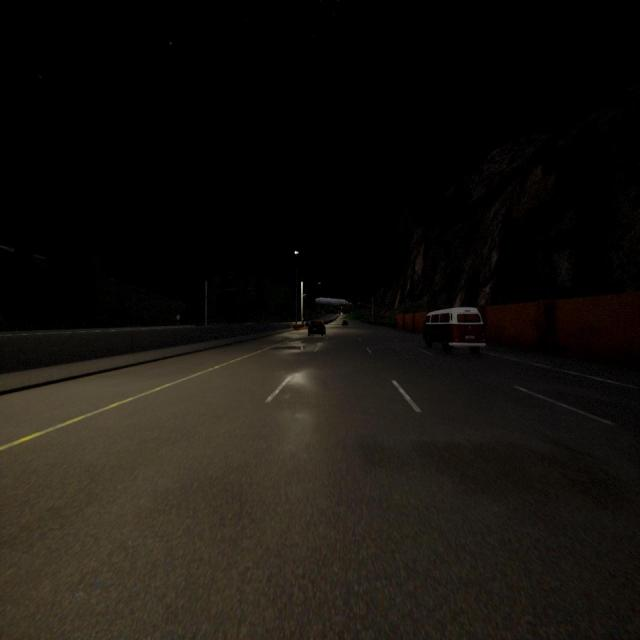Traffic_Signs: (176, 314, 180, 320)
Vehicle: (422, 307, 486, 353), (308, 320, 326, 337), (342, 320, 348, 326)
traffic_light: (372, 312, 373, 316), (344, 302, 345, 304), (350, 303, 352, 304), (358, 303, 359, 304)
